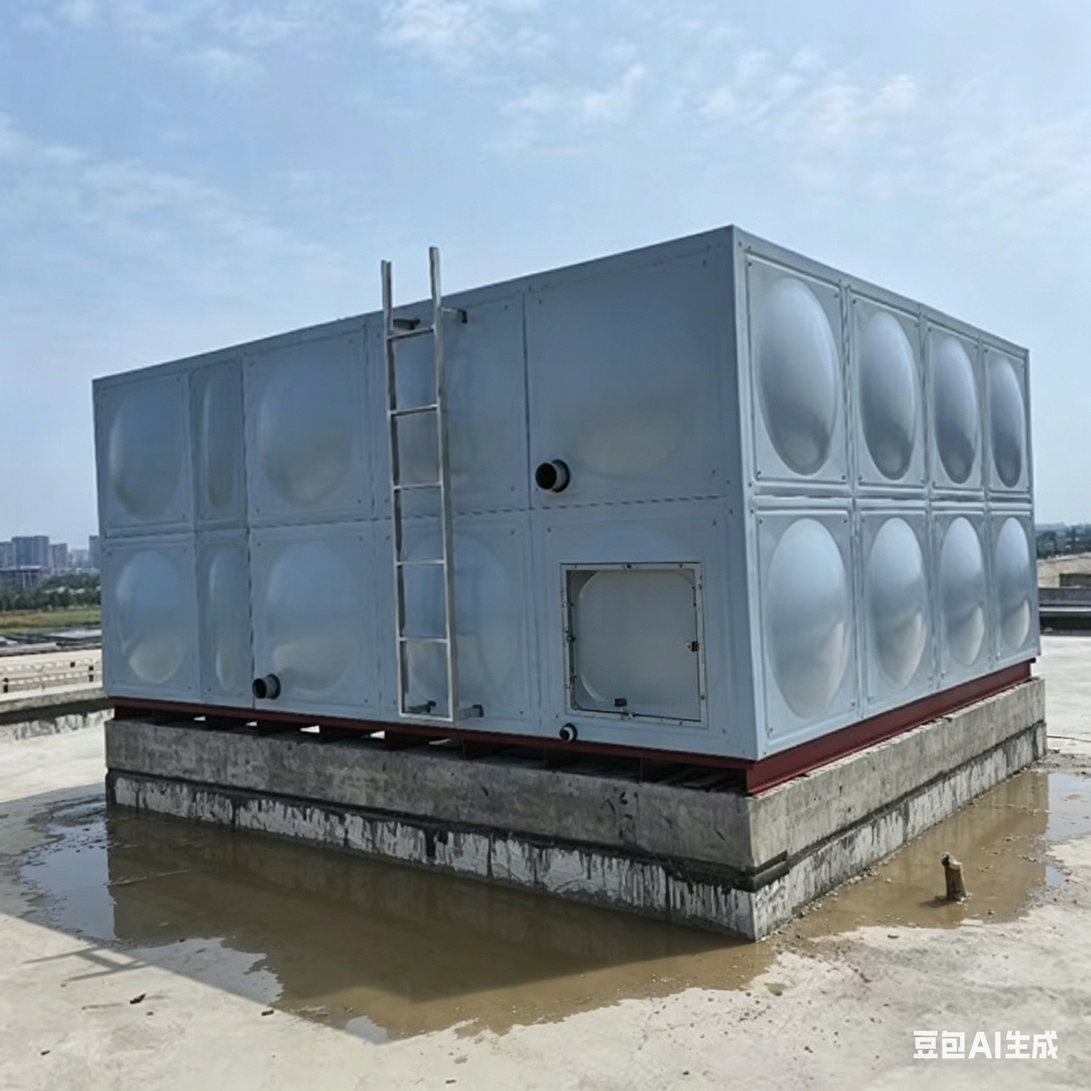Leakage: (38, 812, 752, 1013), (890, 844, 1085, 923), (993, 772, 1091, 836), (804, 866, 884, 927), (760, 935, 812, 979), (939, 794, 987, 830)
